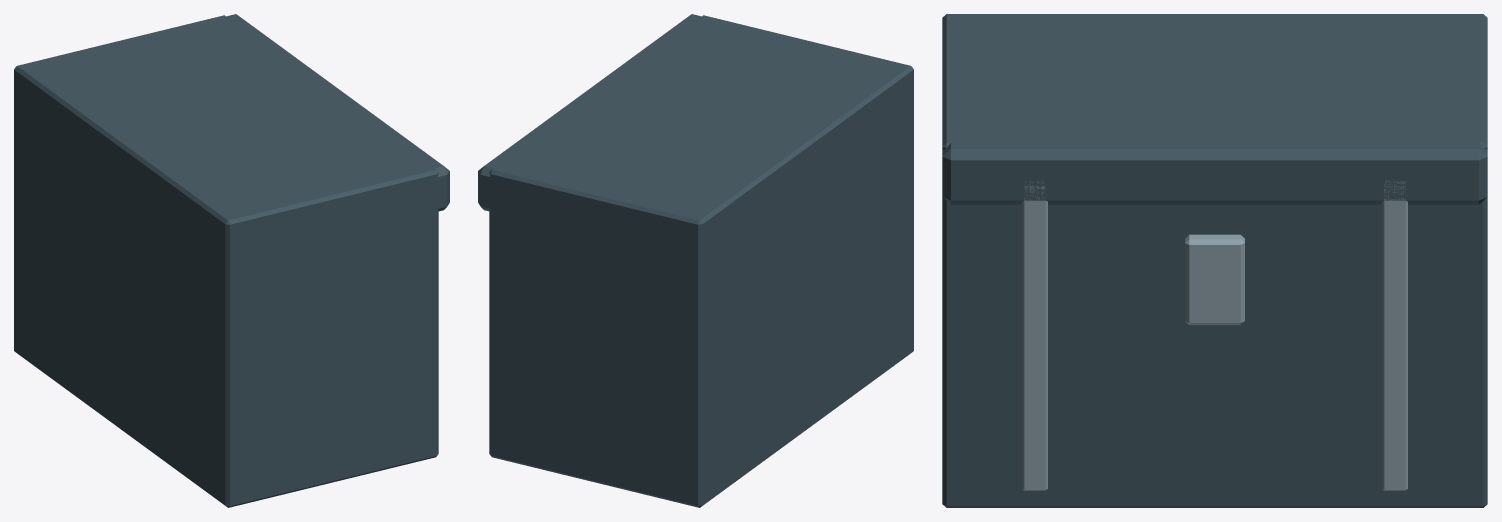
Rendered from coffre_perimetre.glb.
3 renders of one model, left to right at view 1: azimuth 30°, elevation 25°; view 2: azimuth 150°, elevation 25°; view 3: azimuth 270°, elevation 25°, orthographic. The views are drawn at different scales.
Parts seen in each view (by area): view 1: coffre_perimetre; view 2: coffre_perimetre; view 3: coffre_perimetre.
Boxes of the visible parts, x1,y1,x2,y2 form: coffre_perimetre: [14, 14, 449, 507]; coffre_perimetre: [478, 14, 913, 507]; coffre_perimetre: [942, 14, 1487, 507].
Size of the model in its own units: 0.7 by 0.85 by 1.15.
1 material, 1 textured.
